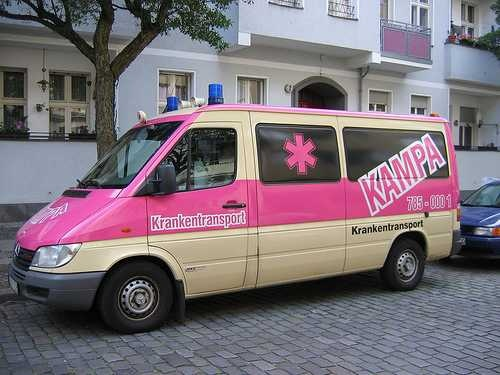Police Van: (17, 88, 461, 340)
